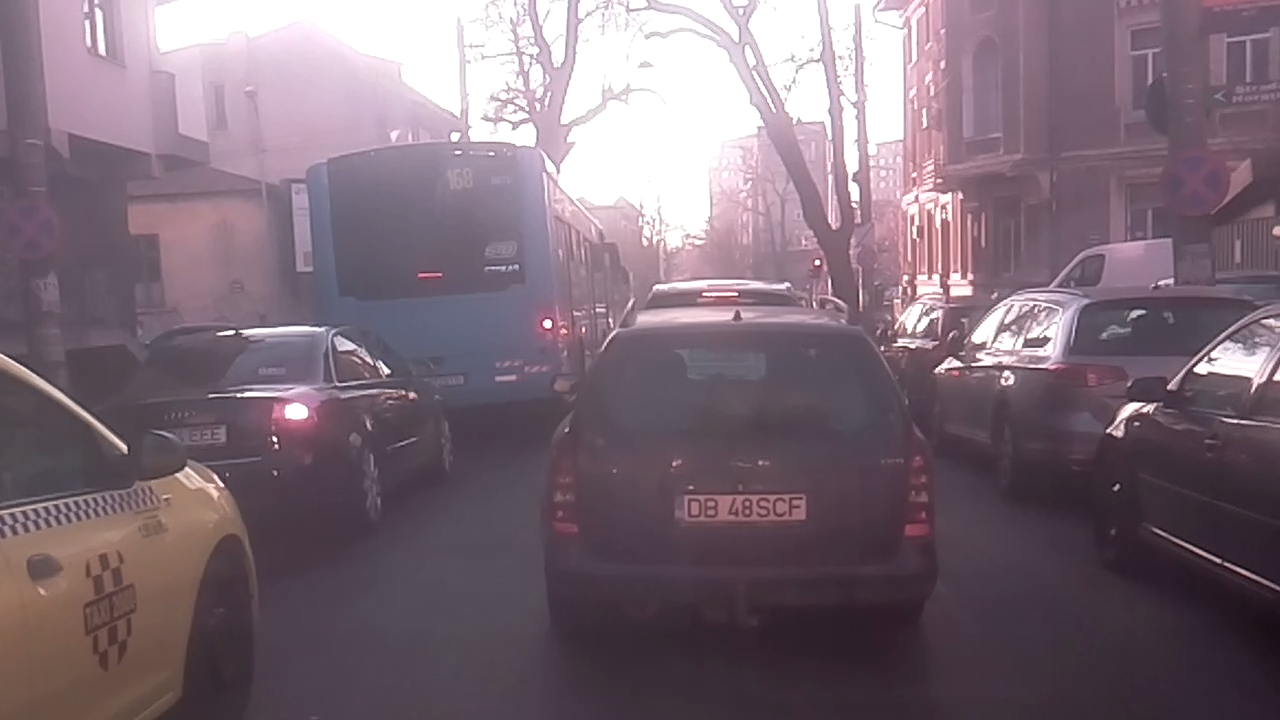license-plate: (669, 487, 811, 528)
